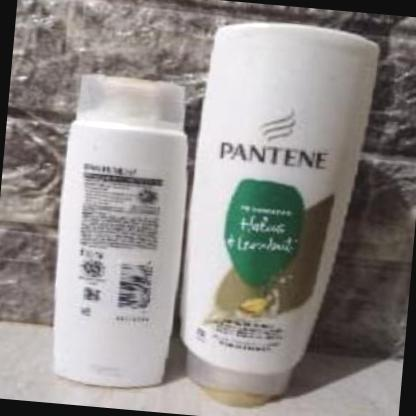objects: (177, 19, 379, 405), (44, 70, 198, 392)
